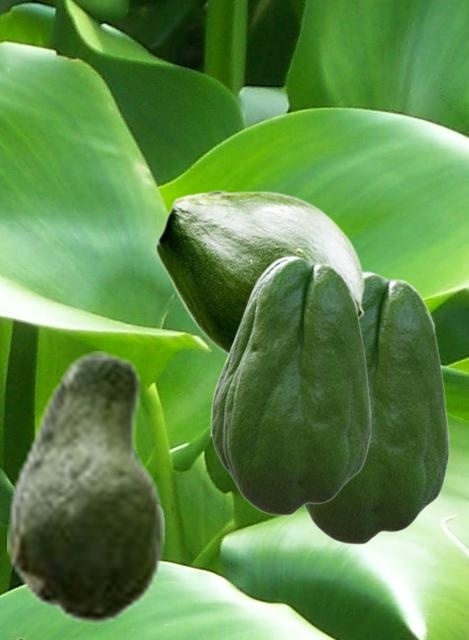sayote: (7, 351, 163, 624), (210, 255, 371, 515), (303, 271, 449, 544), (155, 190, 364, 355)
